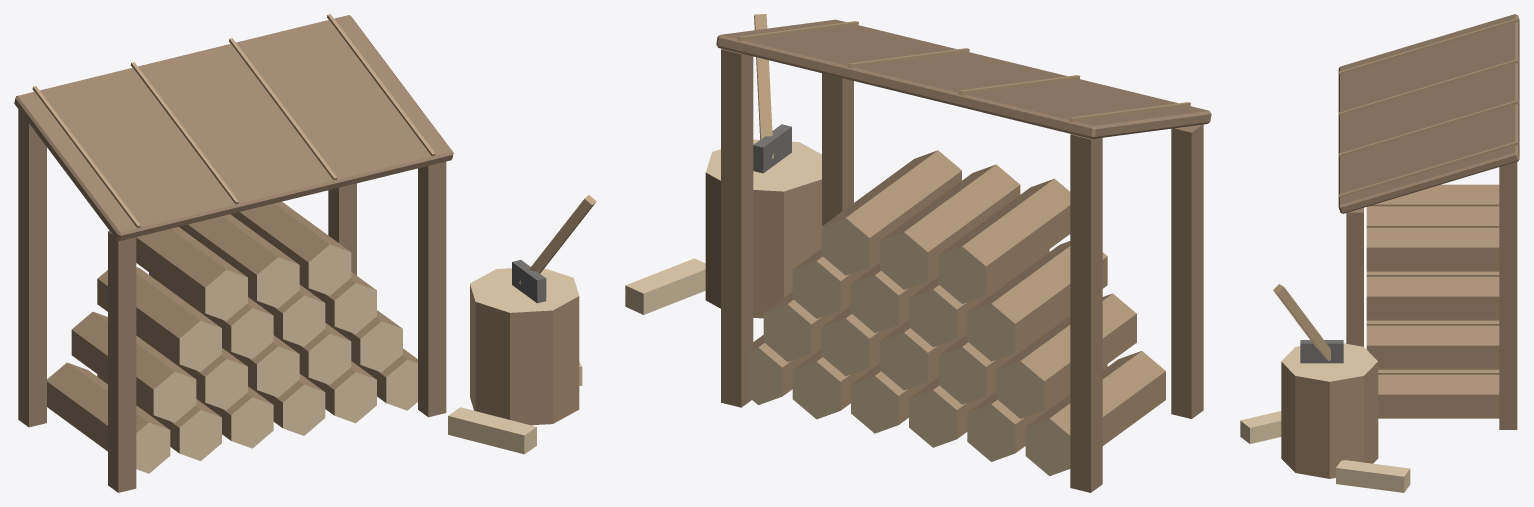
File: woodpile.glb
The picture shows the model from 3 angles, left to right: view 1: azimuth 30°, elevation 25°; view 2: azimuth 150°, elevation 25°; view 3: azimuth 270°, elevation 25°; orthographic projection. The views are drawn at different scales.
Parts seen in each view (by area): view 1: woodpile; view 2: woodpile; view 3: woodpile.
Boxes of the visible parts, x1,y1,x2,y2 form: woodpile: [14, 14, 596, 492]; woodpile: [625, 14, 1211, 492]; woodpile: [1240, 14, 1519, 492].
Bounding box in the file's own units: 1.87 × 1.22 × 1.1.
